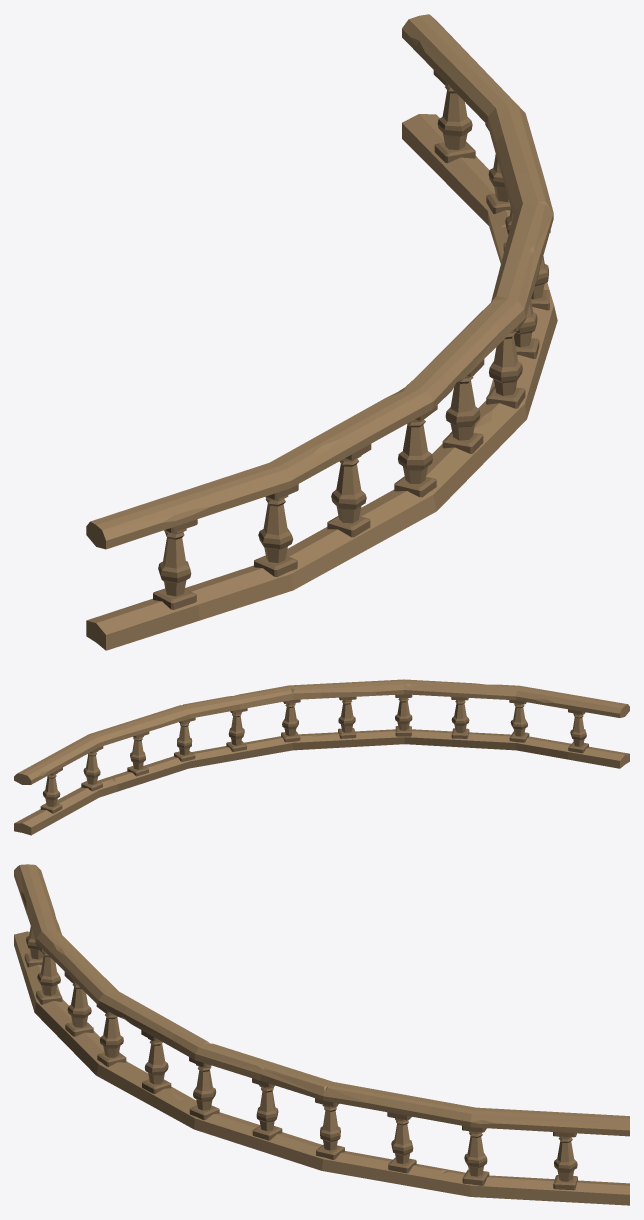
Rendered from SM_Bld_Wall_Curved_Large_Railing_01.fbx.
3 views of the same model, one above another, from view 1: azimuth 30°, elevation 25°; view 2: azimuth 150°, elevation 25°; view 3: azimuth 270°, elevation 25° (orthographic). The views are drawn at different scales.
Parts seen in each view (by area): view 1: SM_Bld_Wall_Curved_Large_Railing_01; view 2: SM_Bld_Wall_Curved_Large_Railing_01; view 3: SM_Bld_Wall_Curved_Large_Railing_01.
Part boxes in pixels (bbox=[...]): SM_Bld_Wall_Curved_Large_Railing_01: bbox=[86, 14, 557, 650]; SM_Bld_Wall_Curved_Large_Railing_01: bbox=[14, 679, 629, 835]; SM_Bld_Wall_Curved_Large_Railing_01: bbox=[14, 864, 629, 1205].
Bounding box in the file's own units: 511 × 74.14 × 511.
